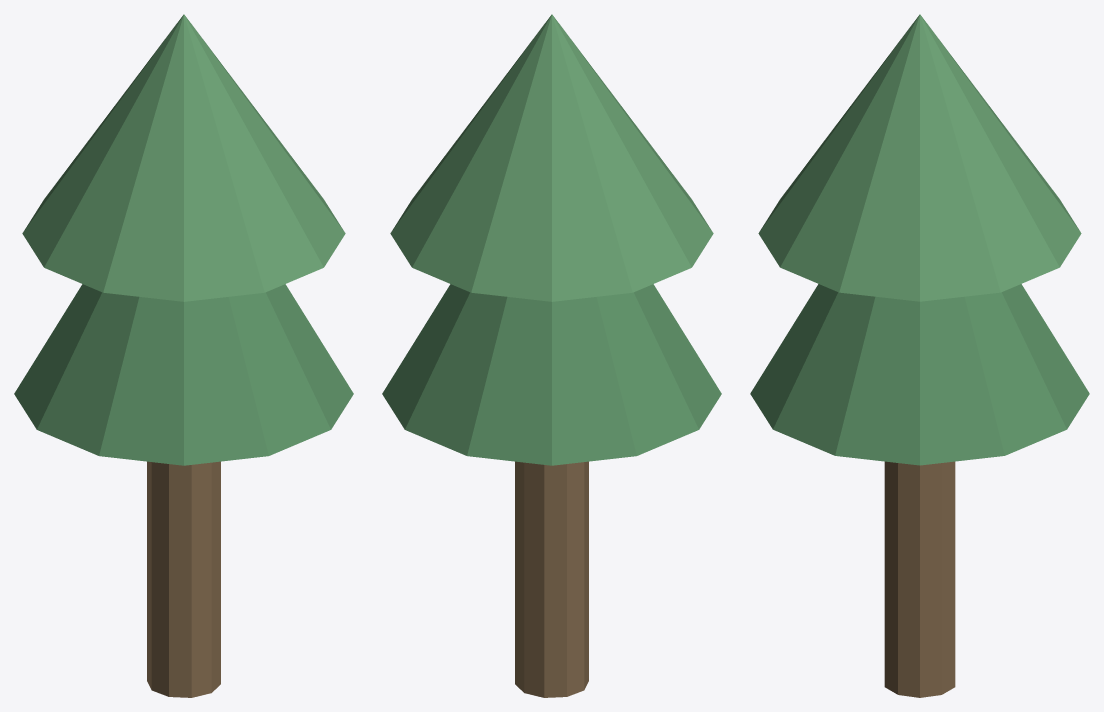
The model's file is lush_pine_tree.glb.
The picture shows the model from 3 angles, left to right: view 1: azimuth 30°, elevation 25°; view 2: azimuth 150°, elevation 25°; view 3: azimuth 270°, elevation 25°; orthographic projection.
Visible parts, largest first — view 1: tree_0_2, tree_0_1, tree_0_0; view 2: tree_0_2, tree_0_1, tree_0_0; view 3: tree_0_2, tree_0_1, tree_0_0.
Part boxes in pixels (x1,y1,x2,y2): tree_0_2: (22,14,345,301); tree_0_1: (14,284,353,465); tree_0_0: (147,461,220,697); tree_0_2: (390,14,713,301); tree_0_1: (382,284,721,465); tree_0_0: (515,461,588,697); tree_0_2: (758,14,1081,301); tree_0_1: (750,284,1089,465); tree_0_0: (884,461,955,697).
Bounding box in the file's own units: 2.05 × 4.46 × 2.05.
